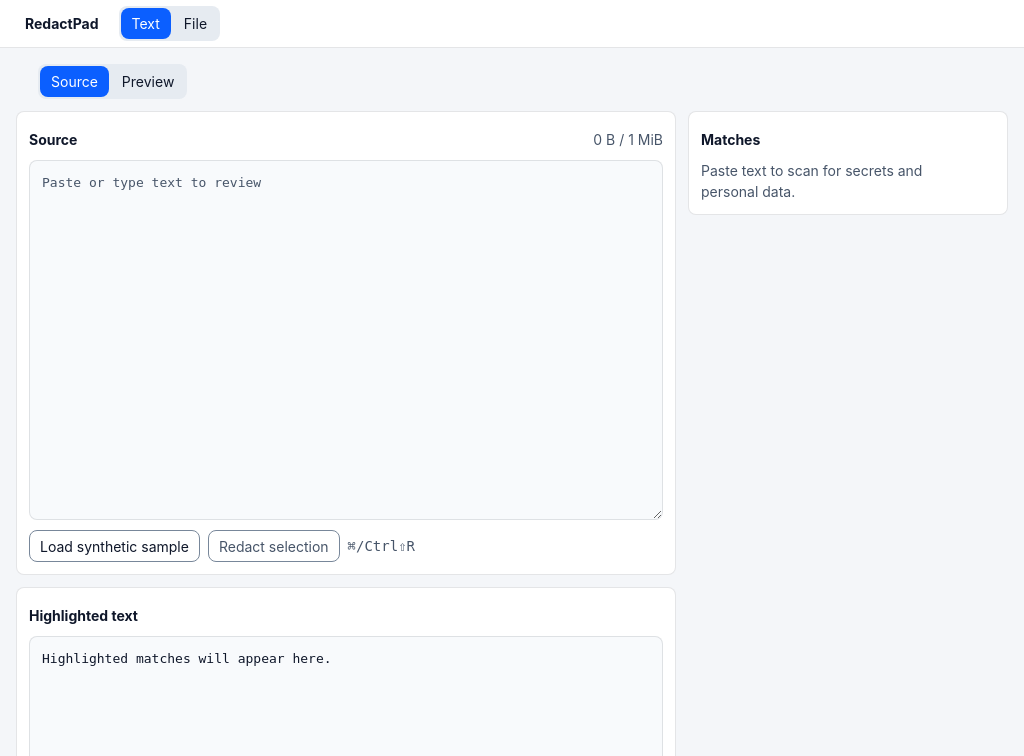
Scenario: surfaces picker and drop errors and preserves the active file
This screenshot has width=1024, height=756.
Click the button "File".
click(196, 24)  # box [173,8,218,39]
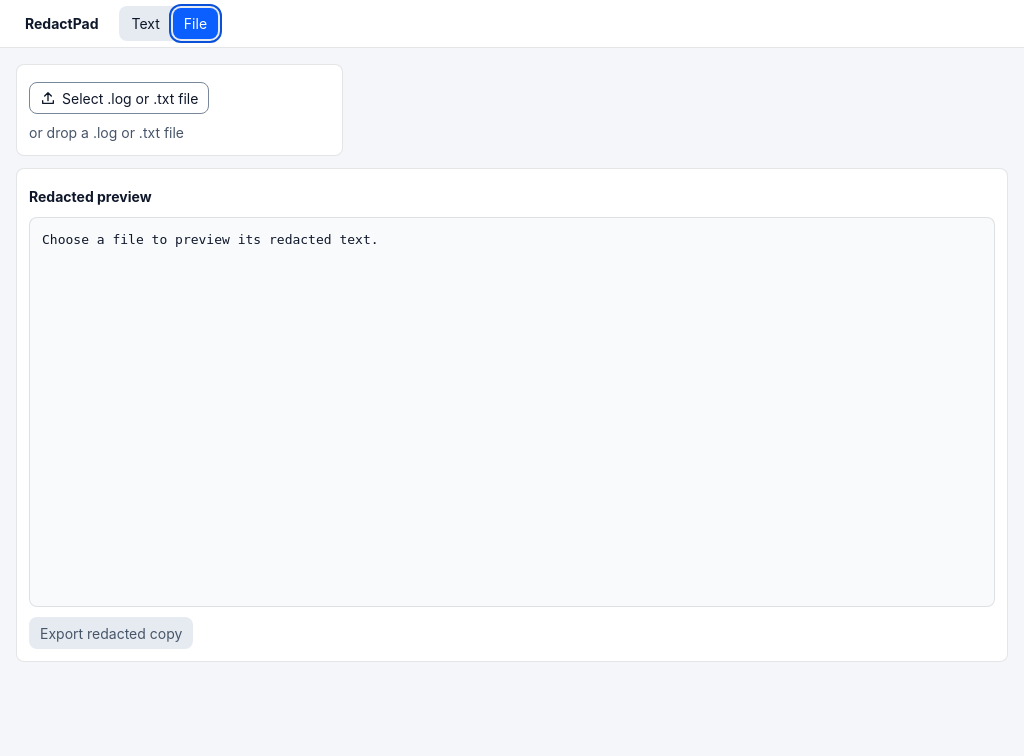
Click the button "Select .log or .txt file".
click(119, 98)  # box [29,82,209,114]
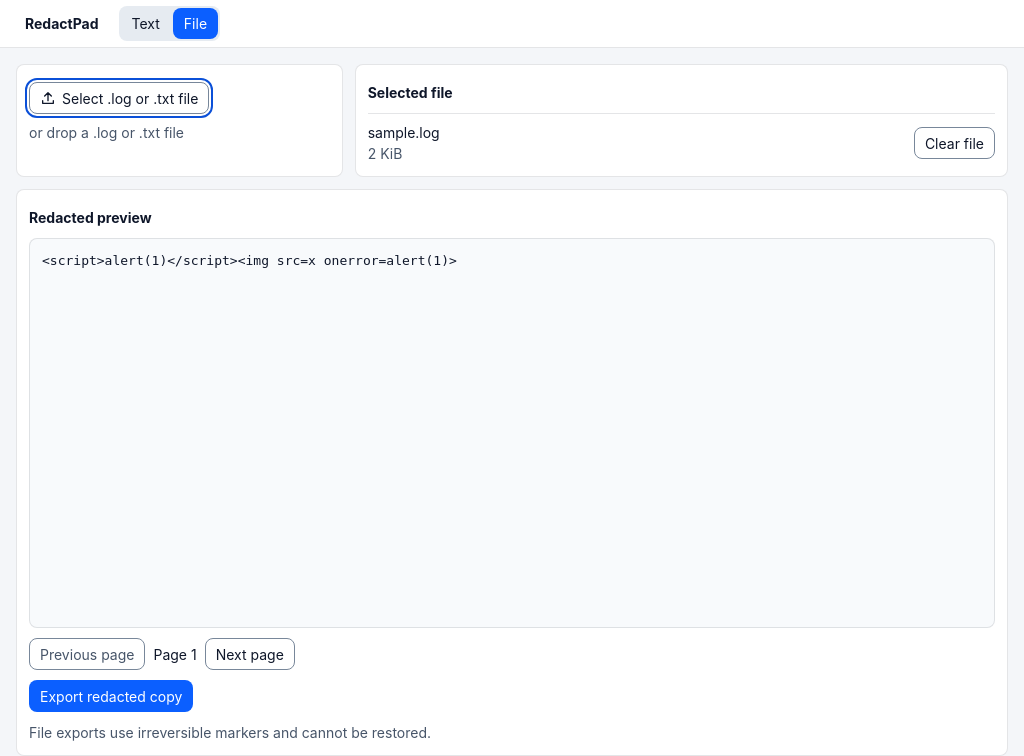
Result: the text "<script>alert(1)</script><img src=x onerror=alert(1)>" is shown at [29,238,995,628]
Click the button "Select .log or .txt file".
click(119, 98)  # box [29,82,209,114]
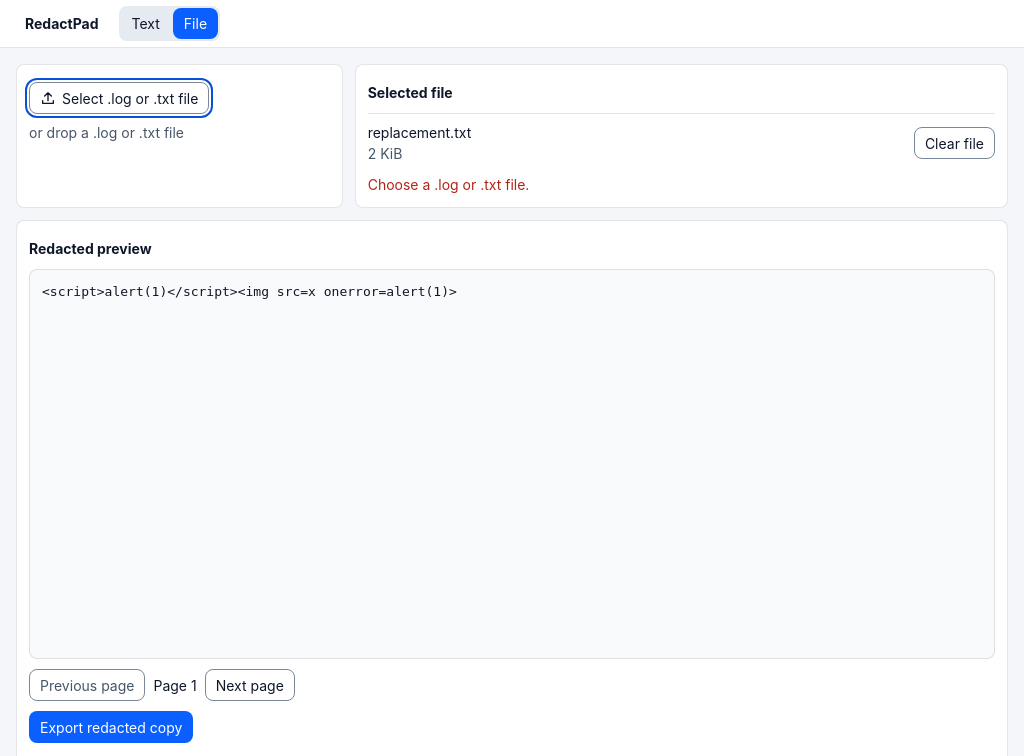
Result: the message "Choose a .log or .txt file." is shown at [368,176,529,193]
Result: the text "replacement.txt" is shown at [368,122,471,143]
